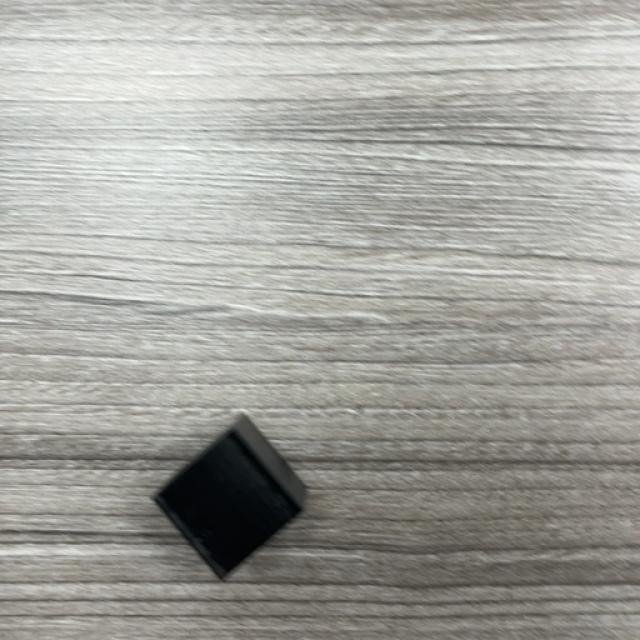Negro: (151, 414, 308, 582)
